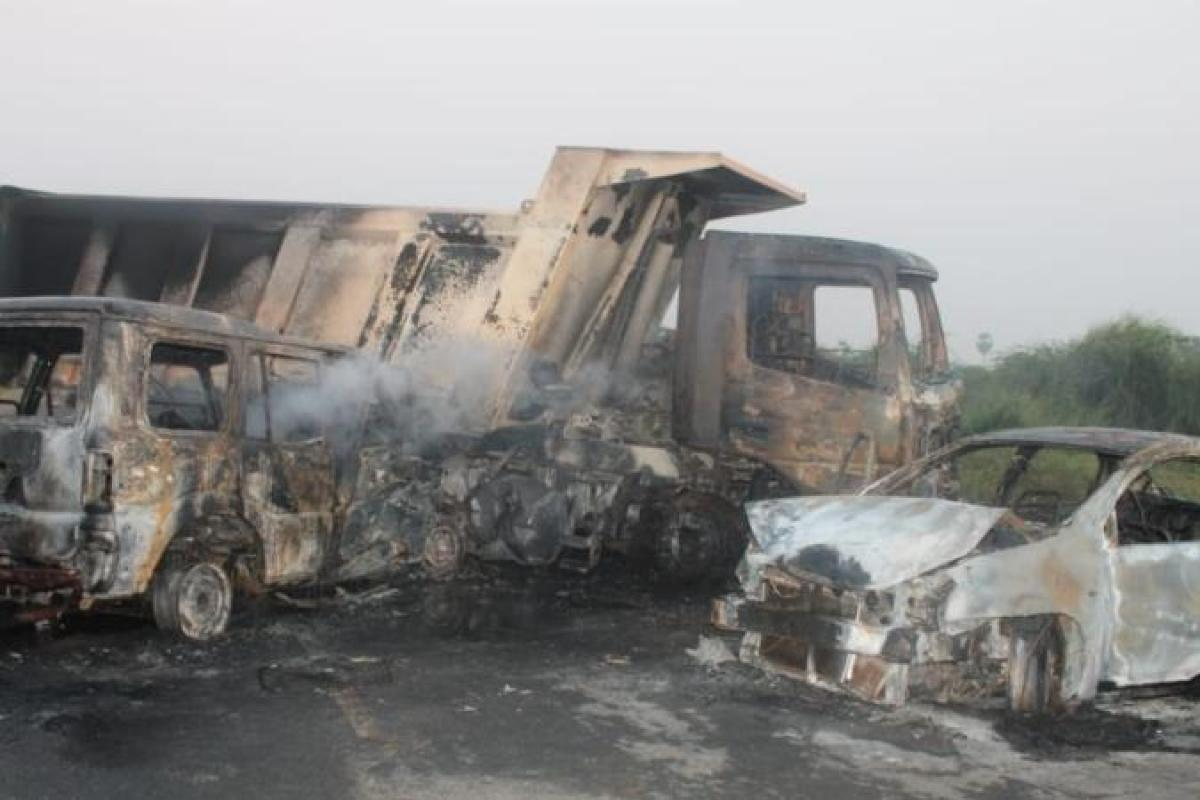accident: (8, 45, 1200, 790)
